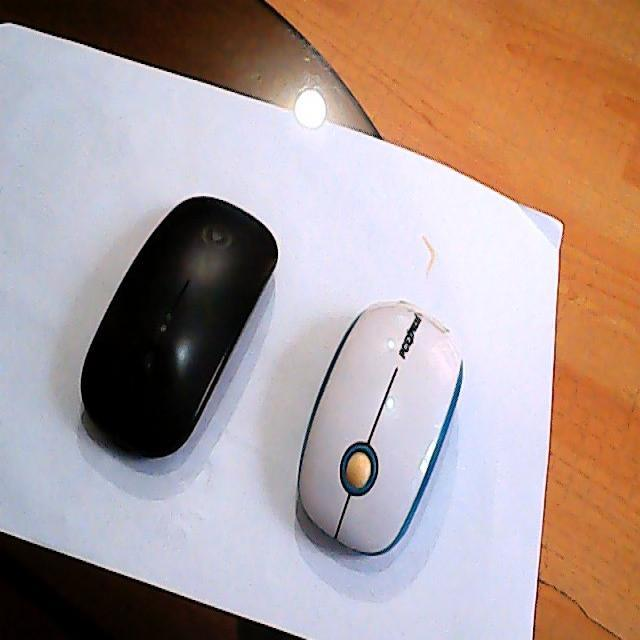mouse: (80, 191, 280, 460), (298, 296, 464, 558)
